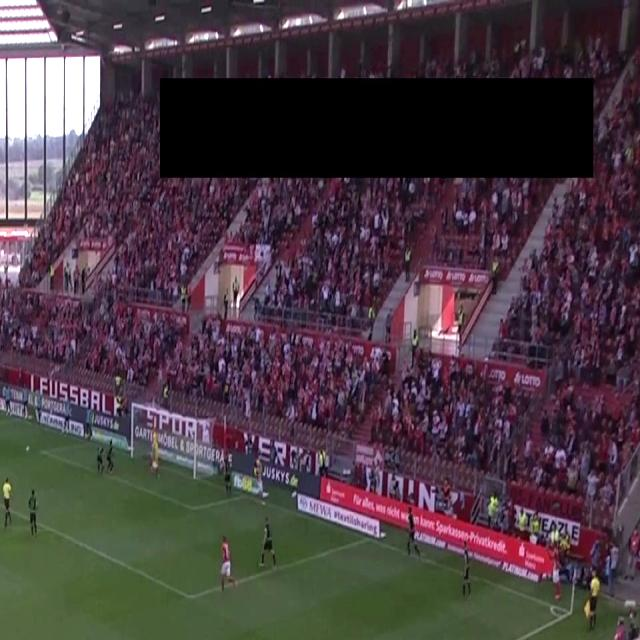goalkeeper: (147, 429, 166, 478)
referee: (583, 570, 609, 632), (0, 469, 15, 530)
soccer-player: (212, 533, 240, 598), (256, 513, 284, 577), (401, 497, 424, 566), (455, 528, 473, 603), (26, 486, 48, 544)
